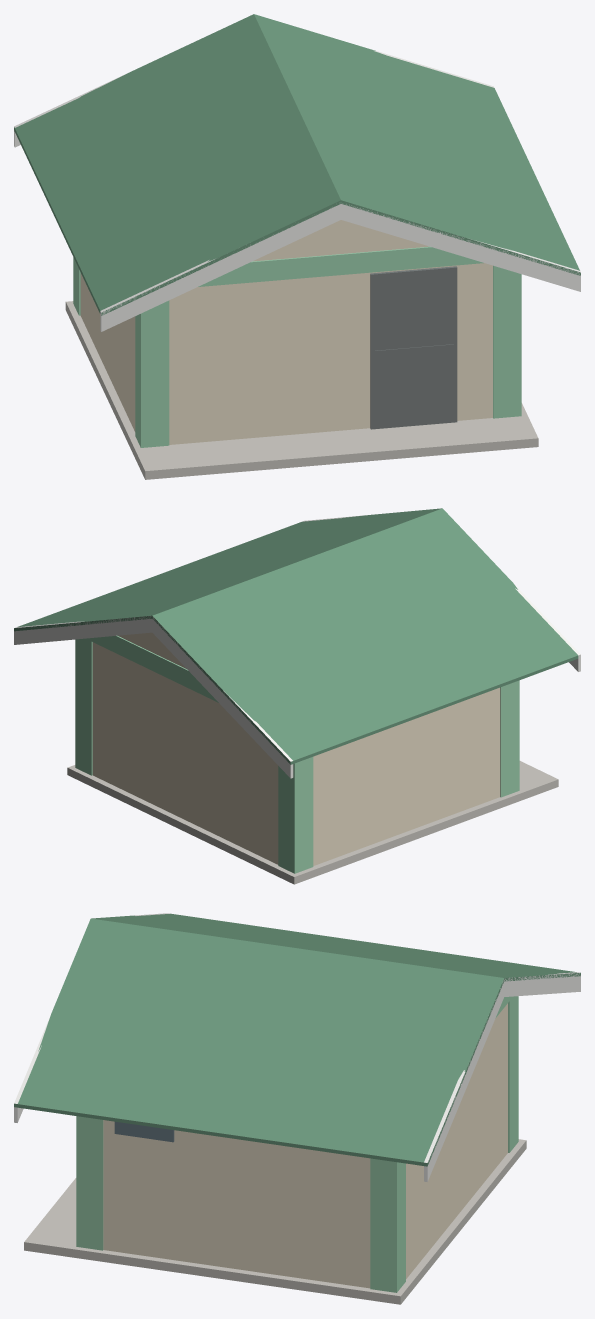
The model's file is rares_botanical_storage.glb.
The picture shows the model from 3 angles, top to bottom: view 1: azimuth 30°, elevation 25°; view 2: azimuth 150°, elevation 25°; view 3: azimuth 270°, elevation 25°; orthographic projection. The views are drawn at different scales.
Visible parts, largest first — view 1: Green_Gable_Roof, Main_Cream_Walls, Concrete_Pad, Mint_Green_Trim, Door_Frame, White_Gable_Fascia; view 2: Green_Gable_Roof, Main_Cream_Walls, Mint_Green_Trim, Concrete_Pad, White_Gable_Fascia; view 3: Green_Gable_Roof, Main_Cream_Walls, Mint_Green_Trim, Concrete_Pad, White_Gable_Fascia, East_High_Window.
Part boxes in pixels (x1,y1,x2,y2): Green_Gable_Roof: (14, 14, 580, 315); Main_Cream_Walls: (80, 220, 492, 444); Concrete_Pad: (65, 301, 538, 479); Mint_Green_Trim: (73, 246, 521, 447); Door_Frame: (370, 266, 457, 429); White_Gable_Fascia: (14, 51, 580, 331); Green_Gable_Roof: (14, 508, 578, 764); Main_Cream_Walls: (92, 632, 500, 865); Mint_Green_Trim: (75, 635, 519, 873); Concrete_Pad: (67, 761, 558, 884); White_Gable_Fascia: (14, 515, 580, 778); Green_Gable_Roof: (14, 913, 580, 1166); Main_Cream_Walls: (103, 1003, 507, 1288); Mint_Green_Trim: (76, 996, 518, 1292); Concrete_Pad: (24, 1139, 526, 1304); White_Gable_Fascia: (14, 913, 580, 1181); East_High_Window: (114, 1121, 174, 1142).
Size of the model in its own units: 7.58 by 3.6 by 7.27.
